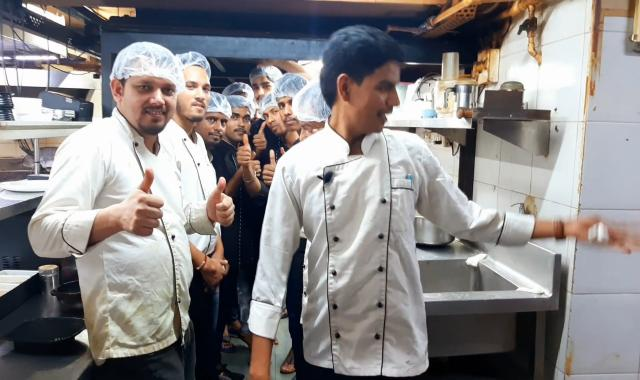hairnet: (111, 40, 184, 101), (290, 77, 328, 123), (178, 52, 222, 81), (206, 89, 232, 126), (249, 64, 281, 83), (226, 95, 253, 114), (260, 95, 278, 118)
no_hairnet: (319, 27, 400, 98)
